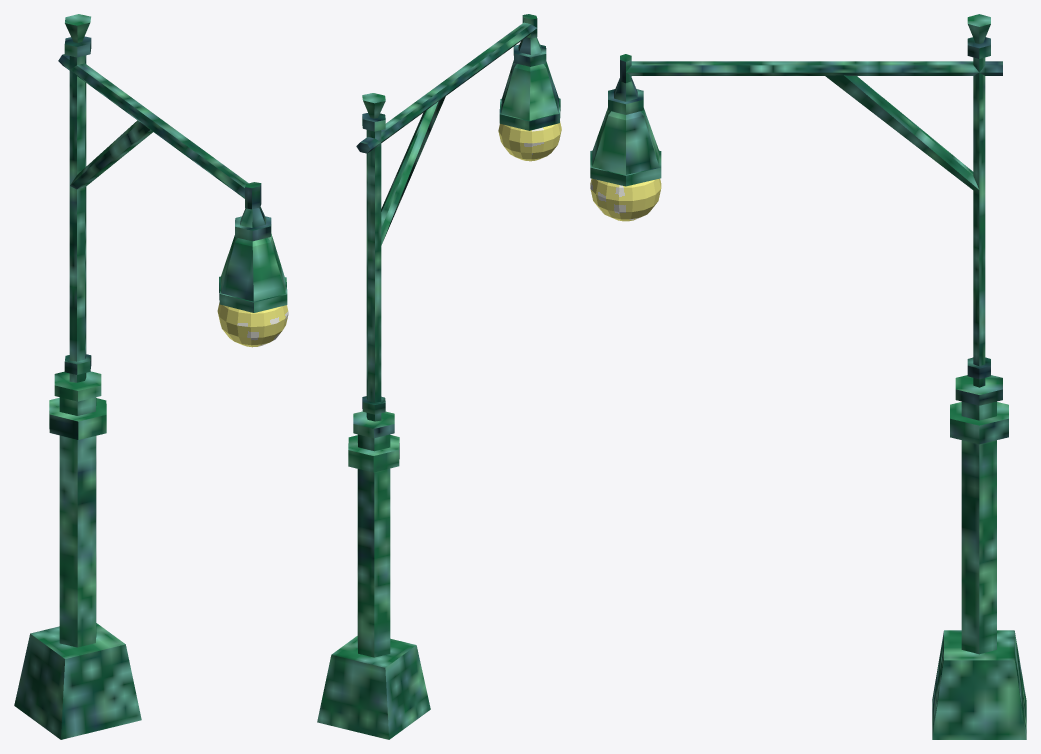
File: StreetLight.fbx
The picture shows the model from 3 angles, left to right: view 1: azimuth 30°, elevation 25°; view 2: azimuth 150°, elevation 25°; view 3: azimuth 270°, elevation 25°; orthographic projection. The views are drawn at different scales.
Parts seen in each view (by area): view 1: Base, cylinder, cylinder_1, cylinder_9, cylinder_11, sphere, cylinder_6, cylinder_2, cylinder_3, cylinder_8, cylinder_7, cone (+1 smaller); view 2: Base, cylinder, cylinder_1, cylinder_9, cylinder_11, cylinder_2, sphere, cylinder_6, cylinder_3, cylinder_8, cylinder_7, cone; view 3: Base, cylinder, cylinder_9, cylinder_1, cylinder_11, cylinder_2, sphere, cylinder_6, cylinder_3, cylinder_8.
Boxes of the visible parts, <box> form: Base: <box>14,623,141,739</box>; cylinder: <box>59,397,96,647</box>; cylinder_1: <box>69,55,86,382</box>; cylinder_9: <box>58,54,248,198</box>; cylinder_11: <box>220,234,285,301</box>; sphere: <box>217,302,288,347</box>; cylinder_6: <box>49,397,106,439</box>; cylinder_2: <box>70,120,152,189</box>; cylinder_3: <box>54,371,101,401</box>; cylinder_8: <box>219,276,287,312</box>; cylinder_7: <box>235,216,271,241</box>; cone: <box>65,14,90,42</box>; Base: <box>317,636,430,739</box>; cylinder: <box>357,434,390,657</box>; cylinder_1: <box>366,130,381,421</box>; cylinder_9: <box>356,22,536,153</box>; cylinder_11: <box>501,60,559,120</box>; cylinder_2: <box>381,96,445,245</box>; sphere: <box>498,121,561,161</box>; cylinder_6: <box>348,435,399,472</box>; cylinder_3: <box>353,411,394,438</box>; cylinder_8: <box>499,98,560,130</box>; cylinder_7: <box>513,44,546,66</box>; cone: <box>362,93,385,118</box>; Base: <box>932,630,1026,739</box>; cylinder: <box>961,401,996,654</box>; cylinder_9: <box>626,61,1002,75</box>; cylinder_1: <box>973,57,985,387</box>; cylinder_11: <box>592,108,659,174</box>; cylinder_2: <box>825,75,978,190</box>; sphere: <box>590,178,661,221</box>; cylinder_6: <box>950,402,1008,444</box>; cylinder_3: <box>955,375,1002,405</box>; cylinder_8: <box>590,150,661,186</box>.
Bounding box in the file's own units: 25 × 205 × 116.
Materials: 2 (2 with a texture image).
